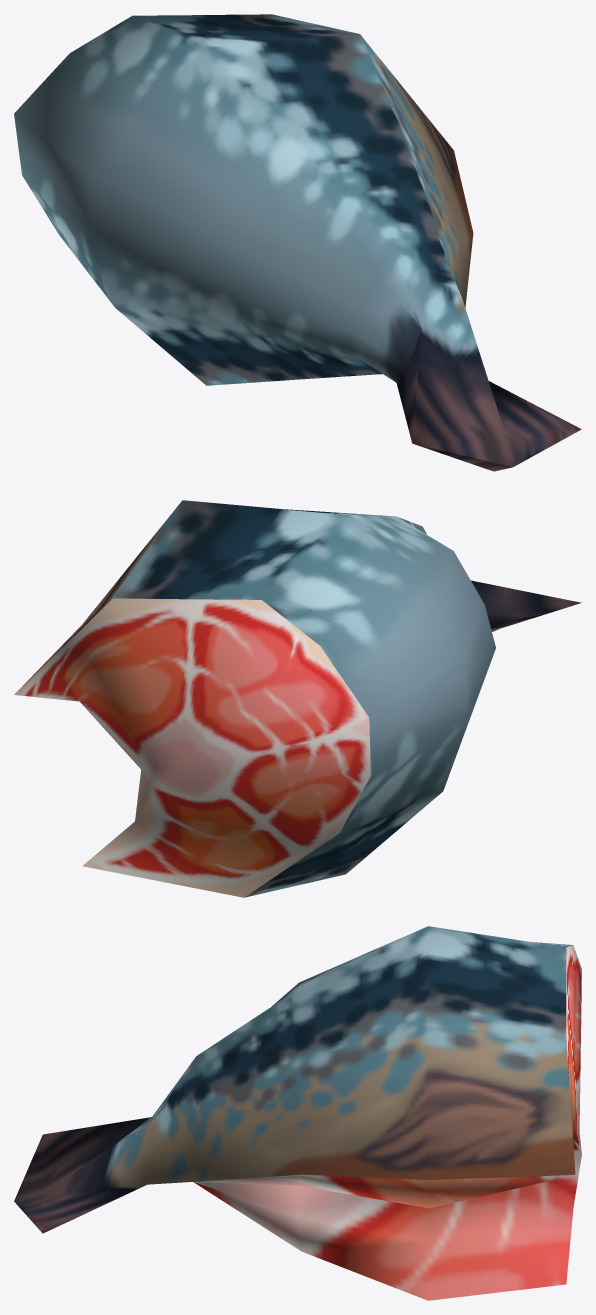
Rendered from SM_PROP_food_fish_02.FBX.
The picture shows the model from 3 angles, top to bottom: view 1: azimuth 30°, elevation 25°; view 2: azimuth 150°, elevation 25°; view 3: azimuth 270°, elevation 25°; orthographic projection. The views are drawn at different scales.
Parts seen in each view (by area): view 1: SM_PROP_food_fish_02; view 2: SM_PROP_food_fish_02; view 3: SM_PROP_food_fish_02.
Part boxes in pixels (box(x1,y1,x2,y2)): SM_PROP_food_fish_02: box(14, 14, 581, 471); SM_PROP_food_fish_02: box(14, 500, 581, 897); SM_PROP_food_fish_02: box(14, 926, 581, 1300).
Bounding box in the file's own units: 40.47 × 60.91 × 36.08.
